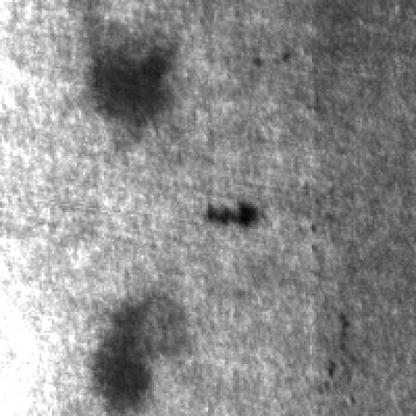patches: (89, 27, 177, 143), (98, 293, 183, 412)
